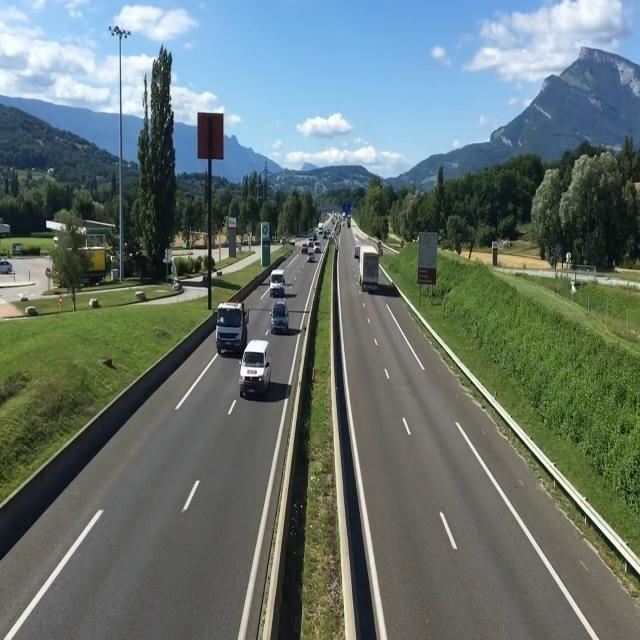Car: (269, 299, 289, 332), (0, 259, 14, 274), (306, 252, 316, 264), (300, 243, 309, 253)
Truck: (212, 299, 251, 355), (358, 246, 382, 294), (318, 222, 324, 234)
Van: (238, 339, 272, 398), (267, 268, 286, 297)
